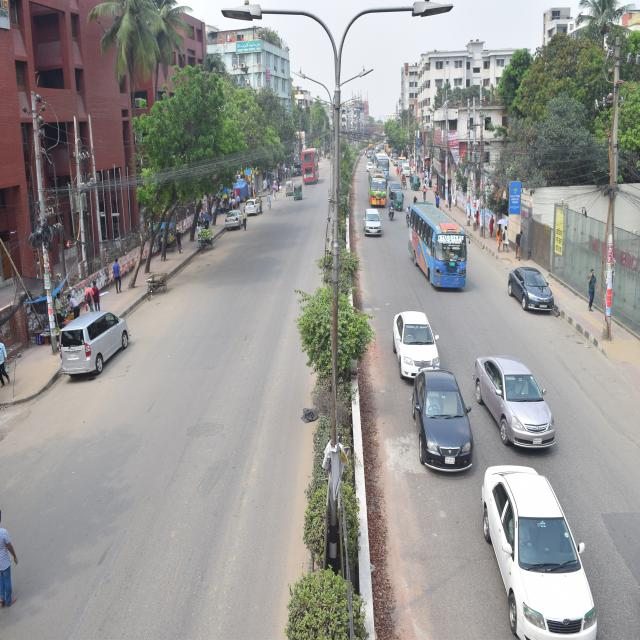bus: (408, 188, 480, 309), (364, 168, 398, 218), (373, 147, 397, 185)
car: (460, 448, 616, 636), (457, 319, 574, 484), (32, 286, 166, 425), (397, 348, 482, 493), (502, 259, 587, 361), (372, 294, 456, 395), (299, 144, 334, 197), (357, 205, 386, 256), (220, 198, 245, 244), (238, 180, 259, 228), (388, 175, 403, 211), (404, 159, 420, 186), (362, 160, 376, 176), (366, 144, 376, 165)
motorbike: (386, 187, 404, 226), (406, 205, 414, 236)
